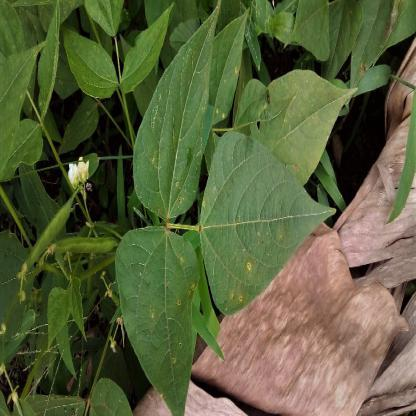Beans_Rust: (197, 130, 314, 320), (115, 221, 198, 416), (132, 22, 209, 218), (264, 72, 359, 183), (212, 13, 246, 130)
